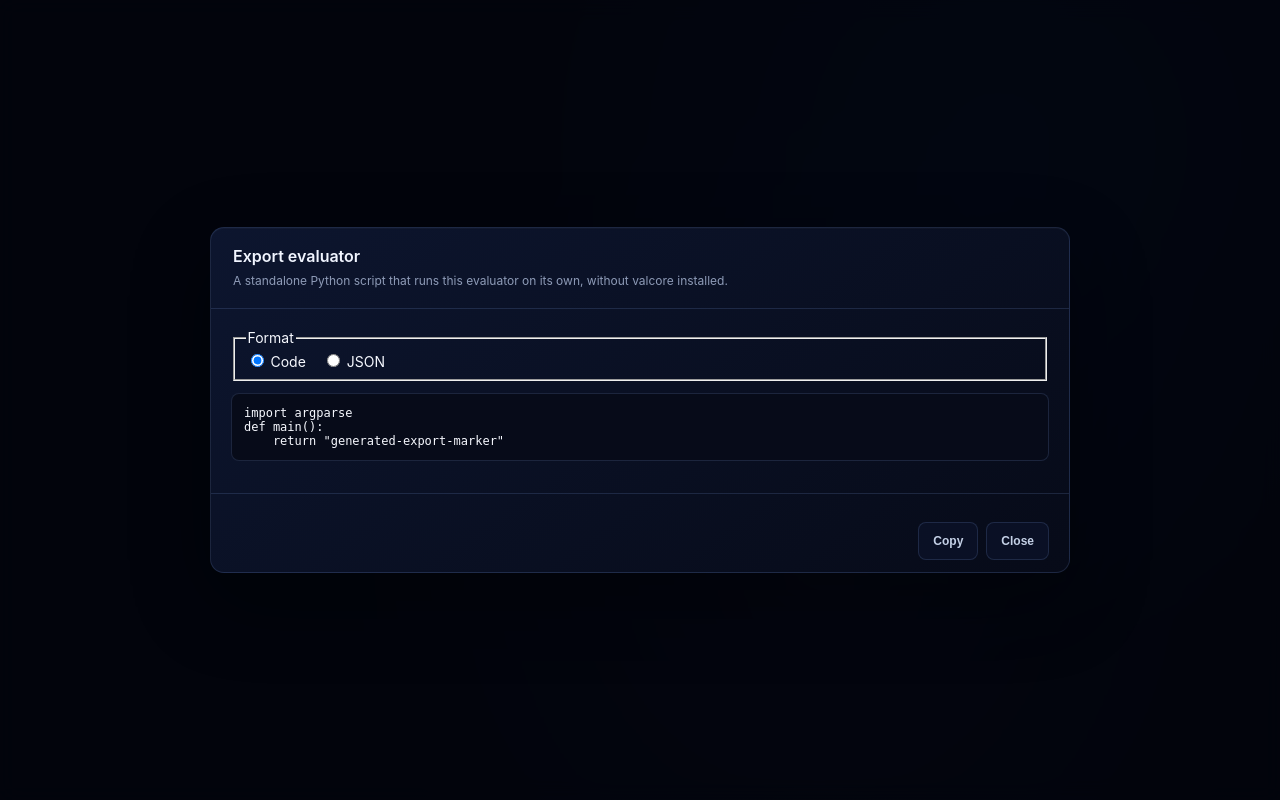
Test: ExportModal › reflects the JSON format in the description, naming valcore_judge.py to run it
expect the text "import argparse def main(): return \"generated-export-marker\"" is shown: met, box [231,393,1049,461]
Step 1. Click the radio button labelled "JSON" → x=333, y=361, box [327,354,340,367]
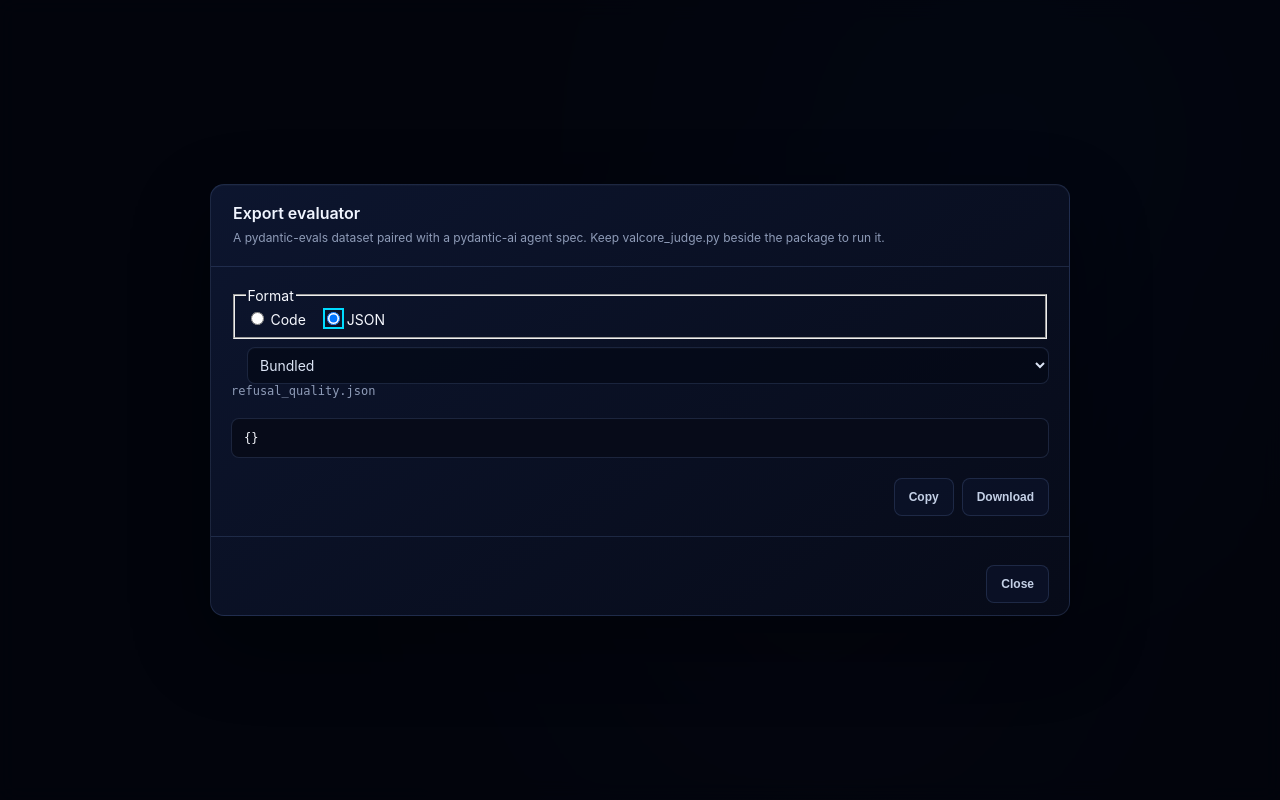
expect the text "pydantic-ai" is shown: met, box [233,230,885,245]
